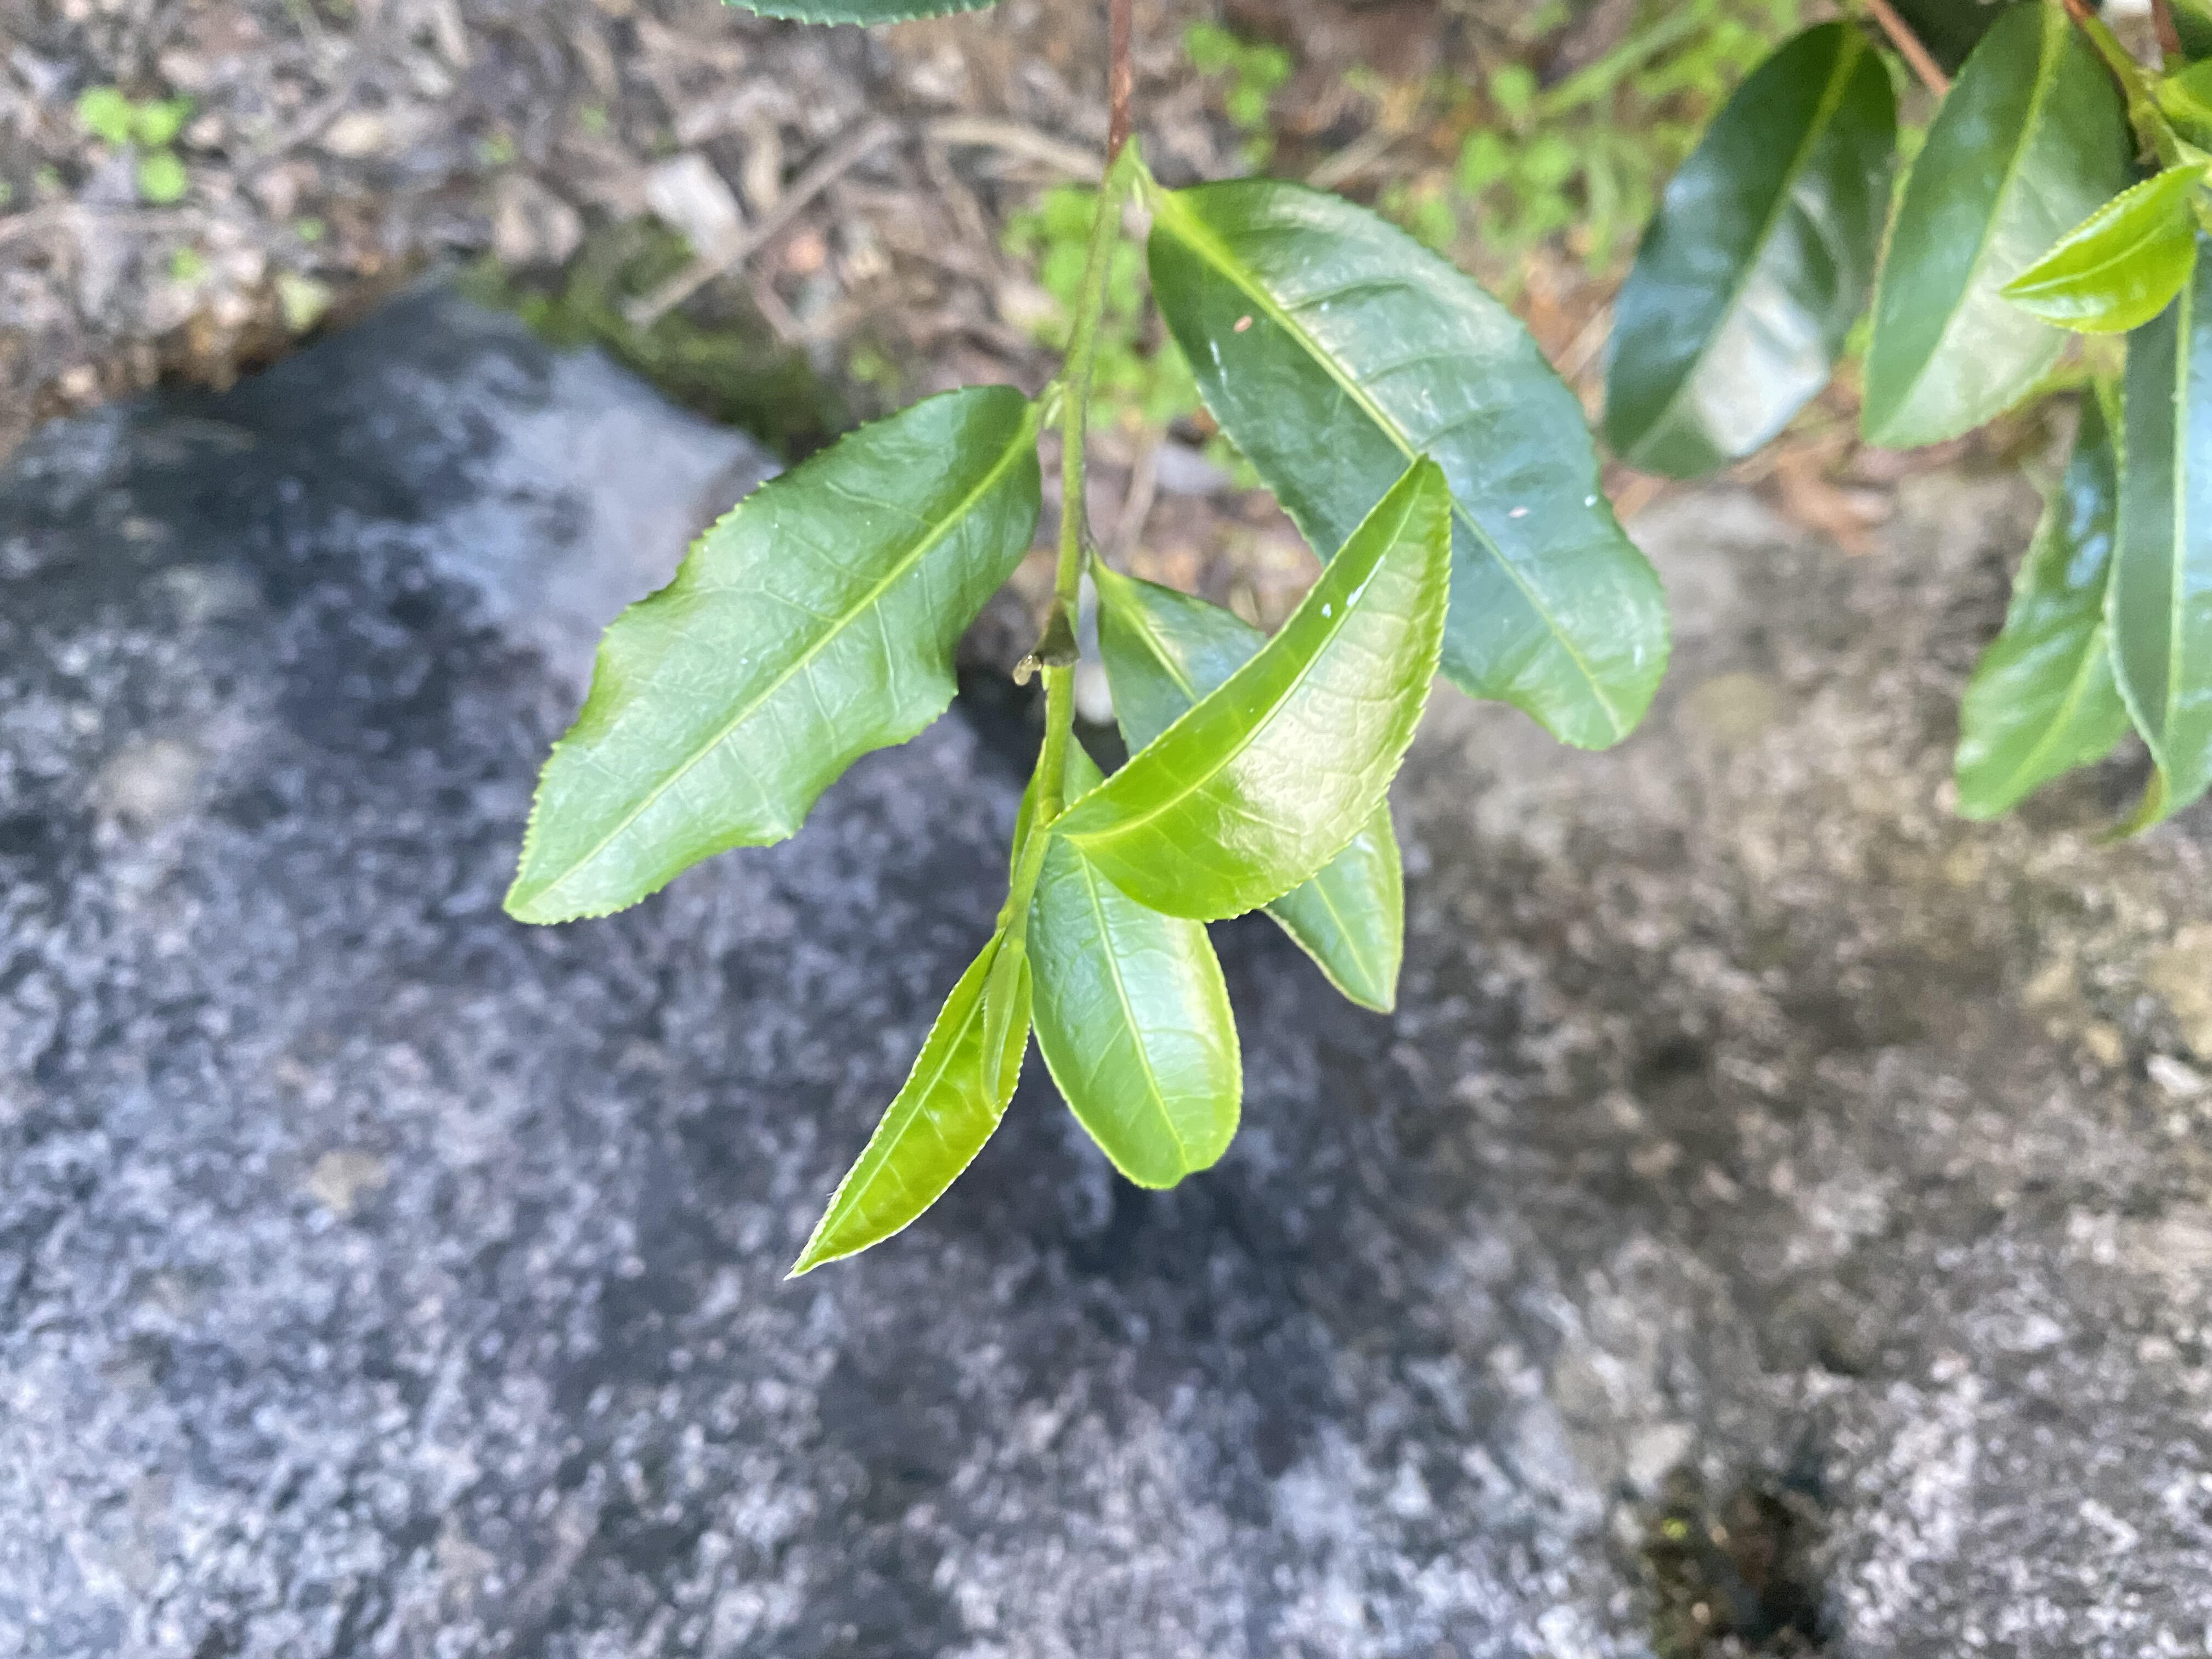healthy: (498, 382, 1045, 936), (1043, 450, 1456, 922), (784, 932, 1031, 1286), (1991, 162, 2203, 338)
tanju_low: (1144, 173, 1674, 756)
